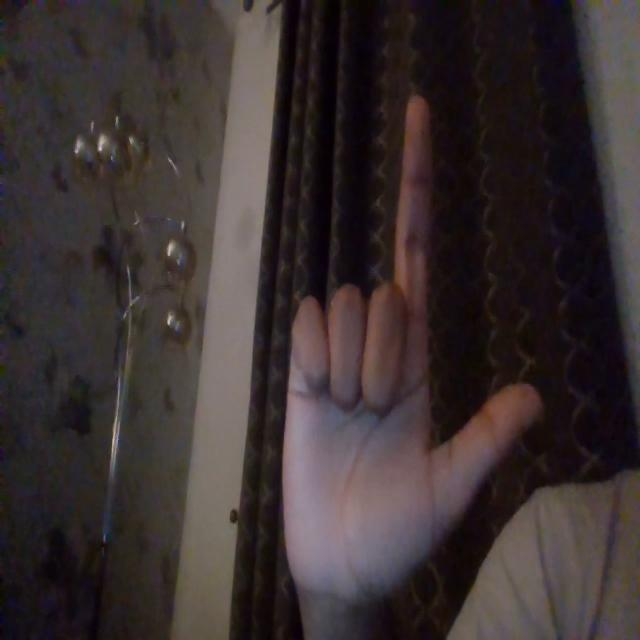hand thumb and index out: (283, 97, 545, 588)
